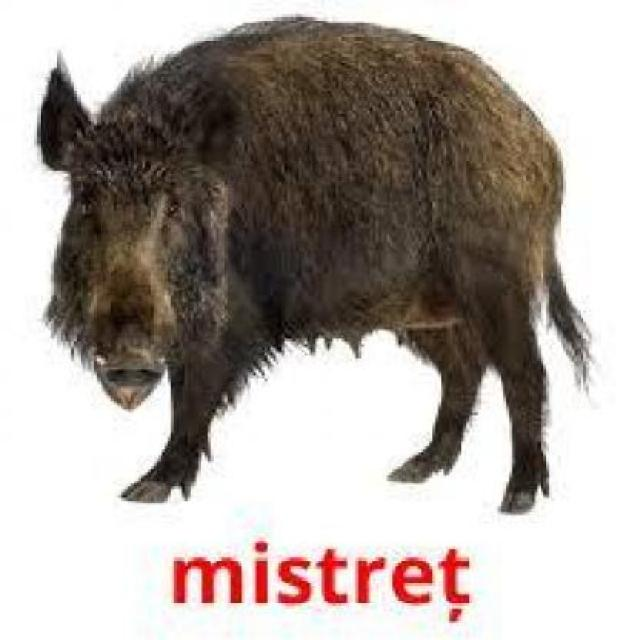wildboar: (29, 13, 594, 519)
